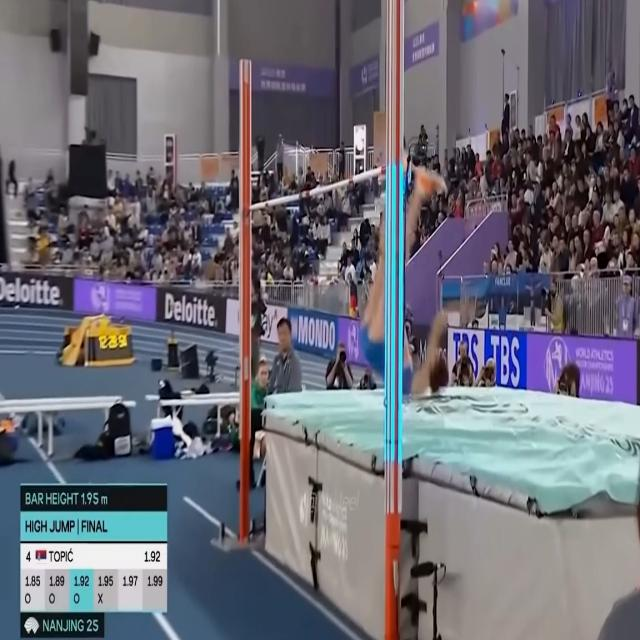land: (358, 146, 450, 397)
